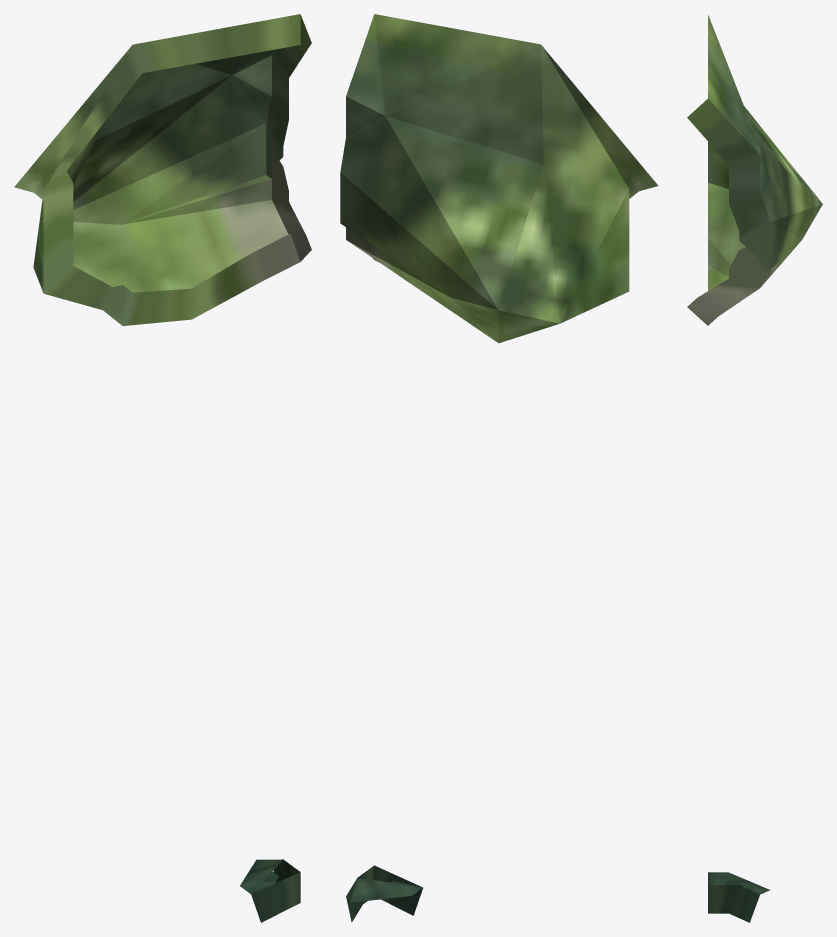
Rendered from BuildingMesh-00080.gltf.
3 views of the same model, side by side, from view 1: azimuth 30°, elevation 25°; view 2: azimuth 150°, elevation 25°; view 3: azimuth 270°, elevation 25° (orthographic). The views are drawn at different scales.
Parts seen in each view (by area): view 1: BuildingMesh-00080; view 2: BuildingMesh-00080; view 3: BuildingMesh-00080.
Boxes of the visible parts, x1,y1,x2,y2 form: BuildingMesh-00080: (14,14,311,922); BuildingMesh-00080: (340,14,658,922); BuildingMesh-00080: (687,15,822,922).
Size of the model in its own units: 0.1137 by 0.3451 by 0.051.
1 material, 1 textured.
